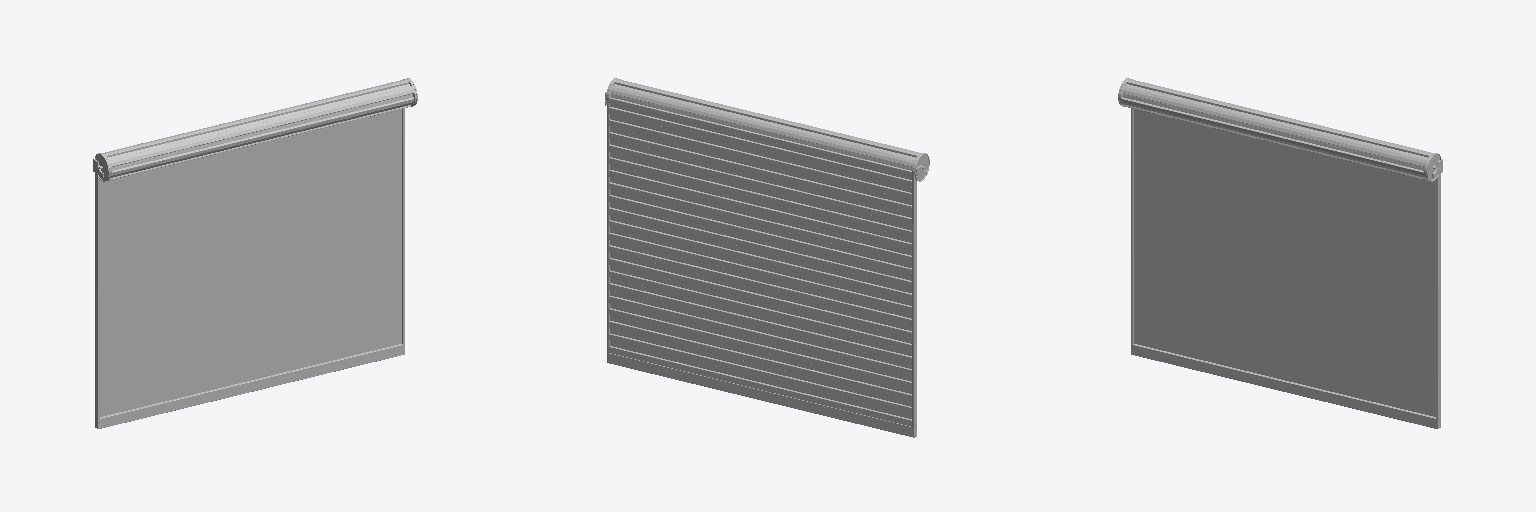
File: roll_up_door_v001.obj
3 renders of one model, left to right at view 1: azimuth 30°, elevation 25°; view 2: azimuth 150°, elevation 25°; view 3: azimuth 330°, elevation 25°, orthographic.
Visible parts, largest first — view 1: Circle001222; view 2: Circle001222; view 3: Circle001222.
Boxes of the visible parts, <box> form: Circle001222: <box>93,78,417,428</box>; Circle001222: <box>605,78,929,437</box>; Circle001222: <box>1118,78,1442,428</box>.
Bounding box in the file's own units: 309 × 264 × 25.